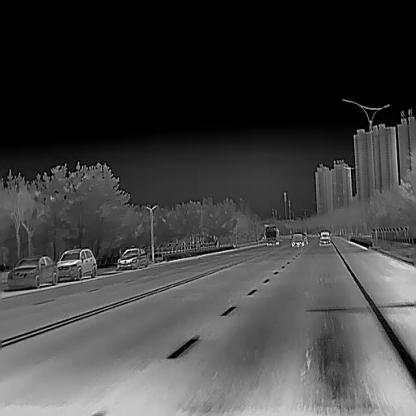bus: (264, 225, 280, 245)
car: (7, 253, 57, 287), (56, 246, 96, 281), (117, 246, 148, 269), (290, 232, 304, 246), (318, 230, 331, 244)
